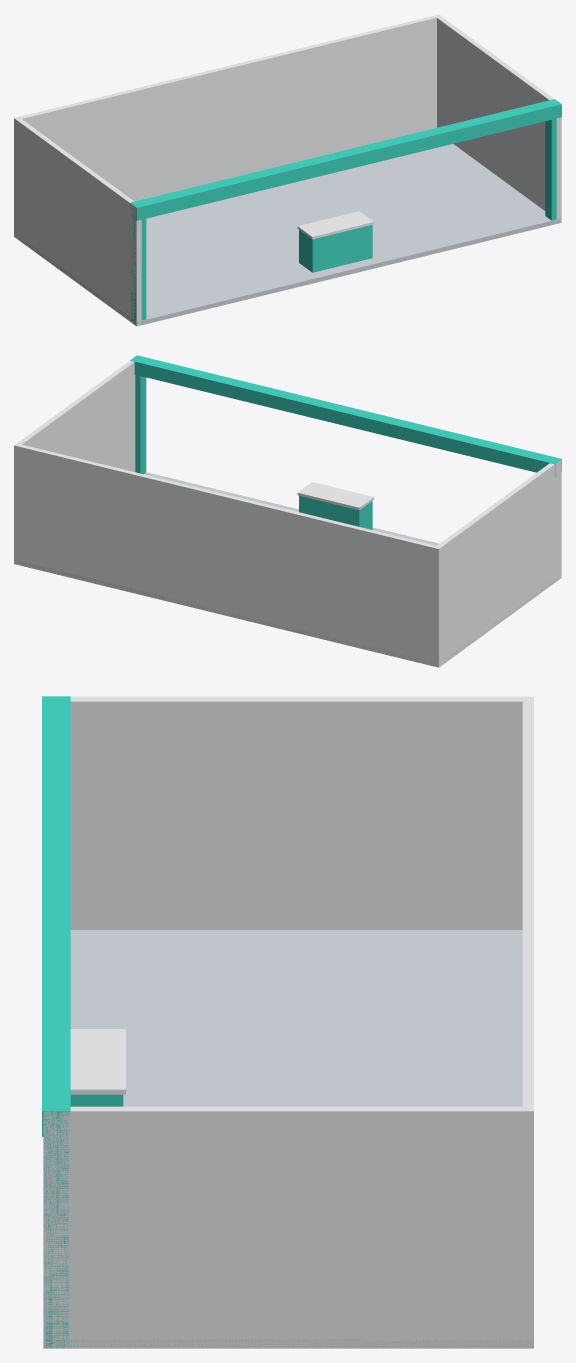
3 renders of one model, top to bottom at view 1: azimuth 30°, elevation 25°; view 2: azimuth 150°, elevation 25°; view 3: azimuth 270°, elevation 25°, orthographic. The views are drawn at different scales.
Parts seen in each view (by area): view 1: Exhibition Booth Concept; view 2: Exhibition Booth Concept; view 3: Exhibition Booth Concept.
Boxes of the visible parts, x1,y1,x2,y2 form: Exhibition Booth Concept: (14,14,561,326); Exhibition Booth Concept: (14,355,561,667); Exhibition Booth Concept: (42,696,533,1348).
Size of the model in its own units: 12 by 3.2 by 6.02.
